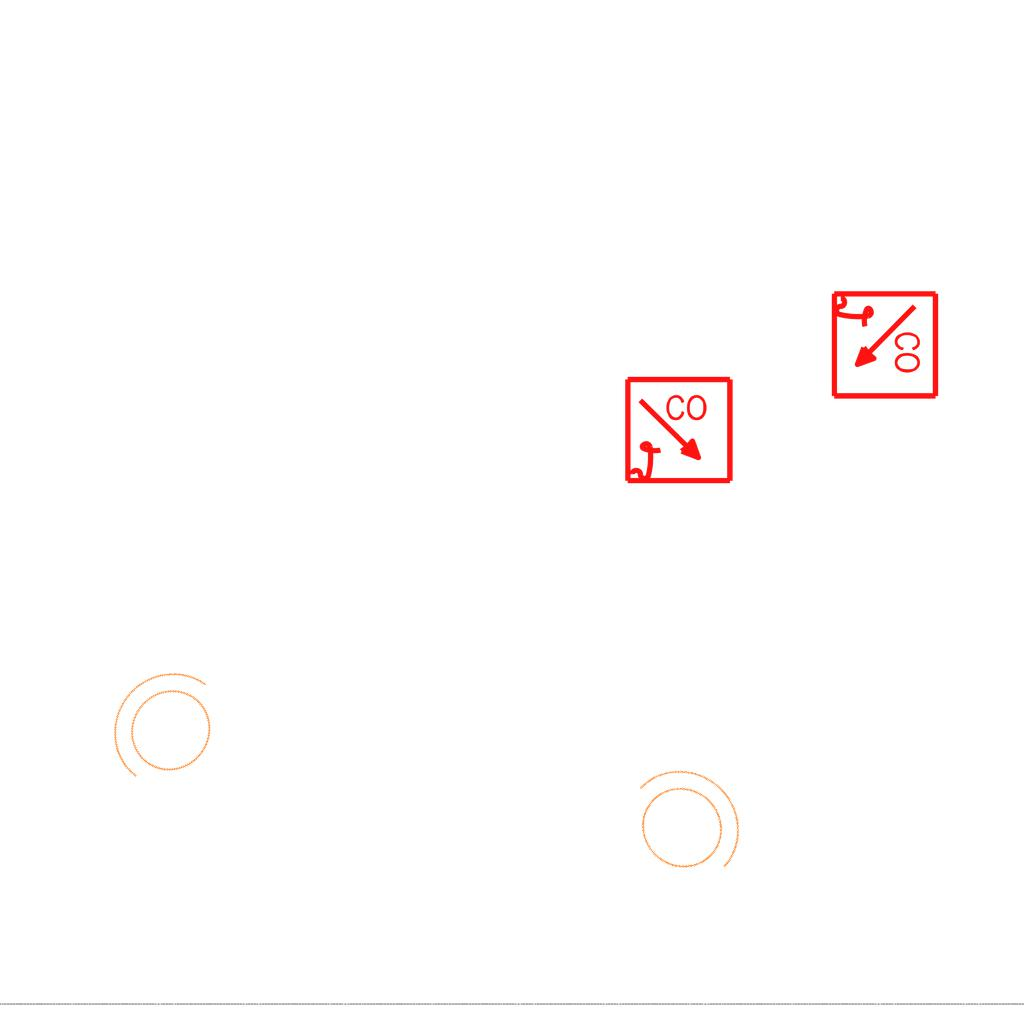ROA_Rauchmelder_optisch_mit_Signalgeber_(Sockelsirene): (827, 289, 940, 402), (623, 375, 736, 488)
Scheinwerfer_fuer_Alarmbeleuchtung: (596, 736, 770, 908), (80, 643, 250, 817)
